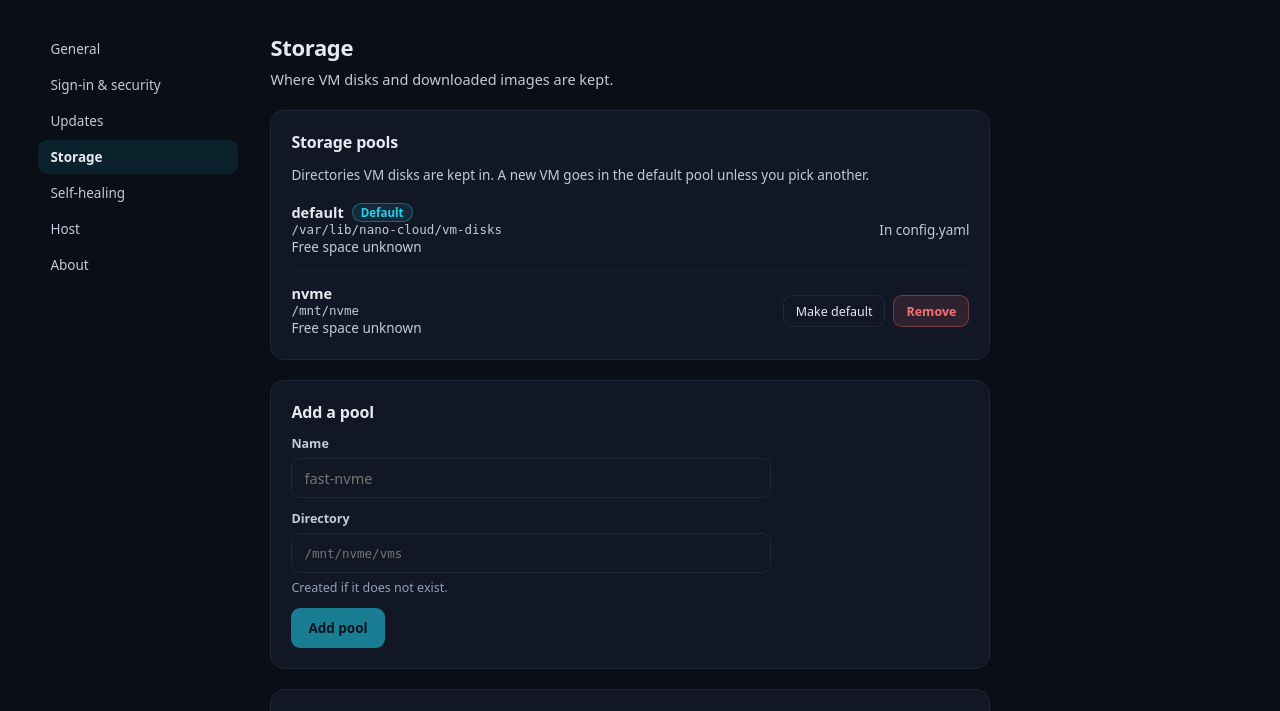
Test case: SettingsPage › adds a pool, shows a refusal verbatim, and removes only Settings-added pools
Expected: the text "/mnt/nvme" is shown, [291,303,359,318]
In the field labelled "Name": (531, 478) [291,458,771,498], type "srv"
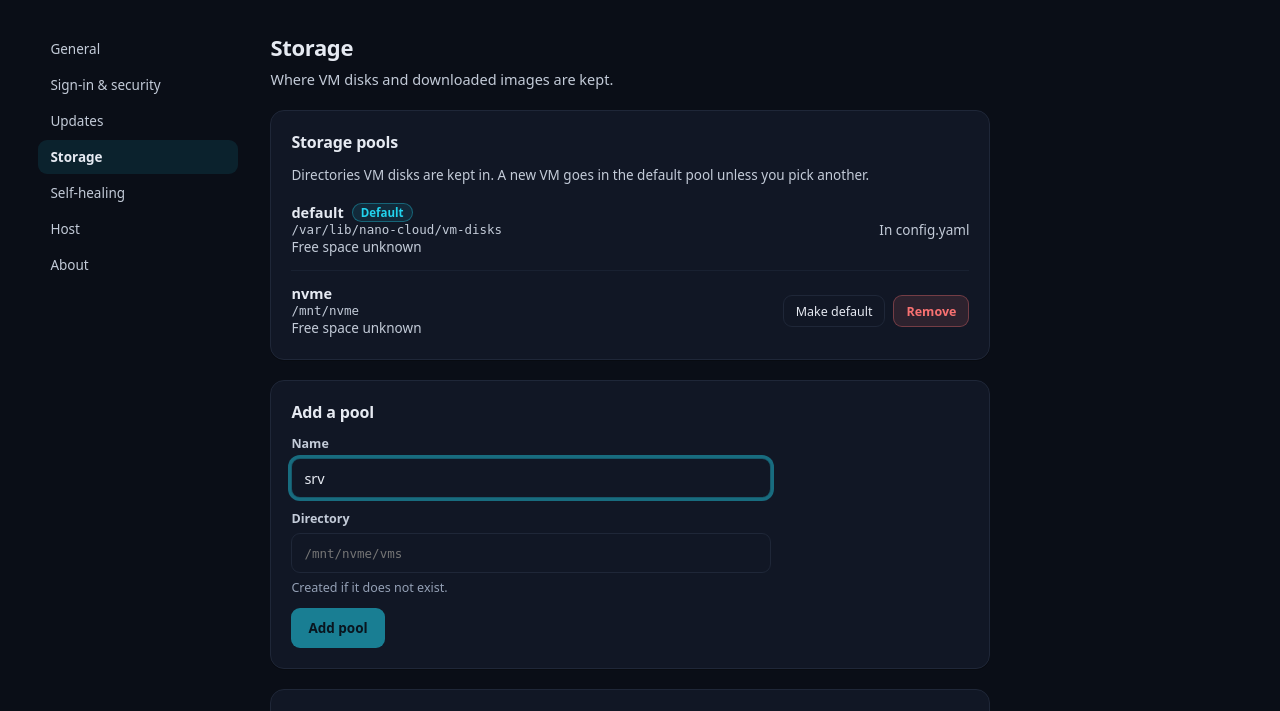
In the field labelled "Directory": (531, 553) [291,533,771,573], type "/srv/vms"
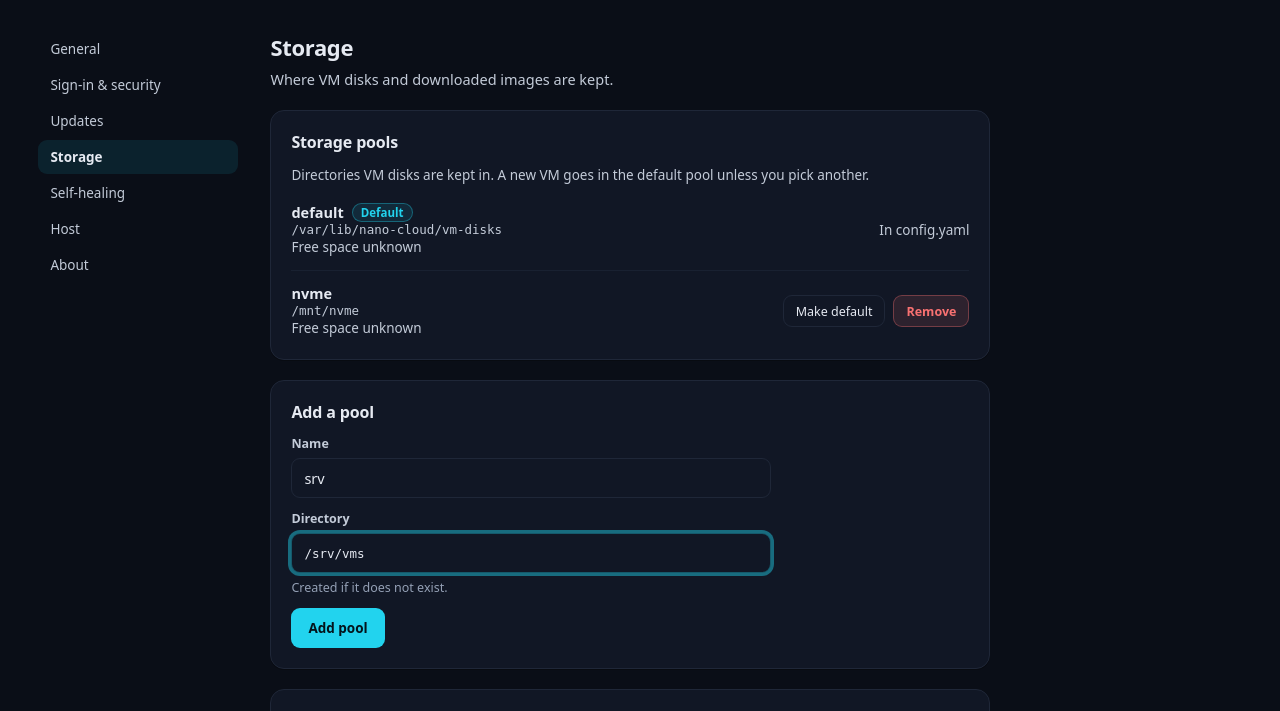
Click the button "Add pool": click(338, 628) [291,608,385,648]
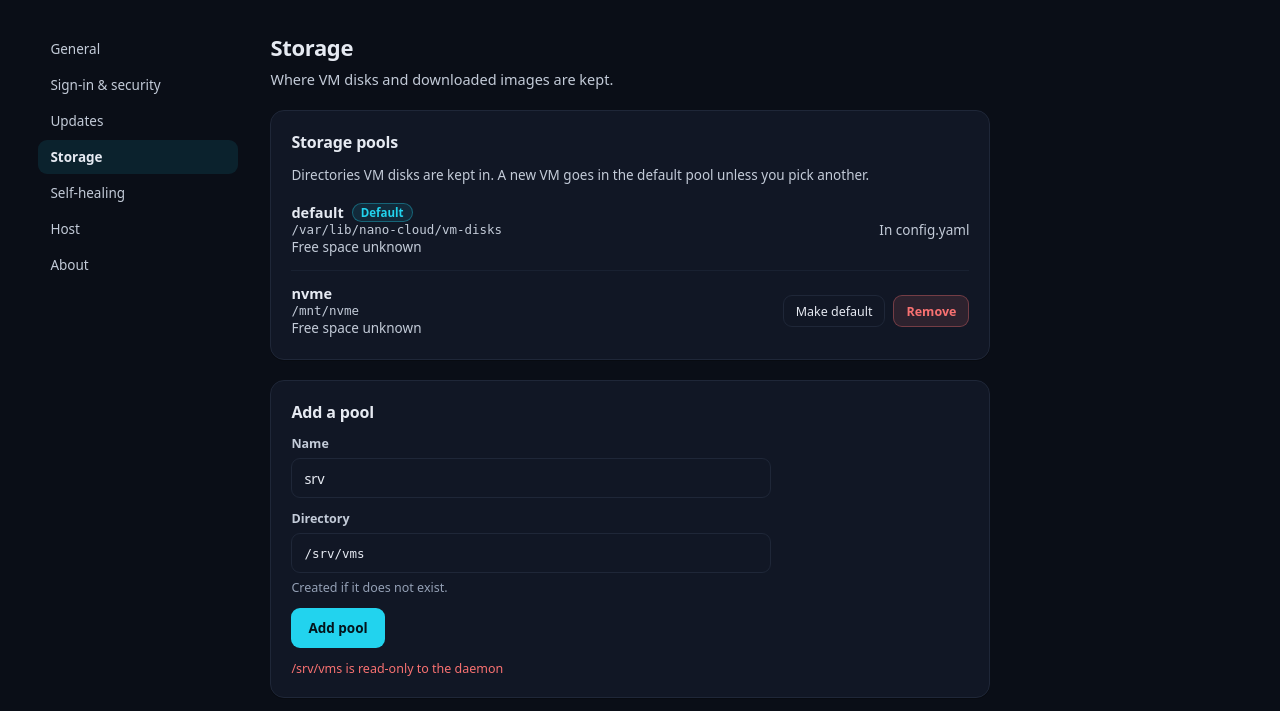
Expected: the message shows "read-only to the daemon", [291,660,503,677]
Click the button with aria-label "Remove nvme": click(931, 311) [894,295,969,327]
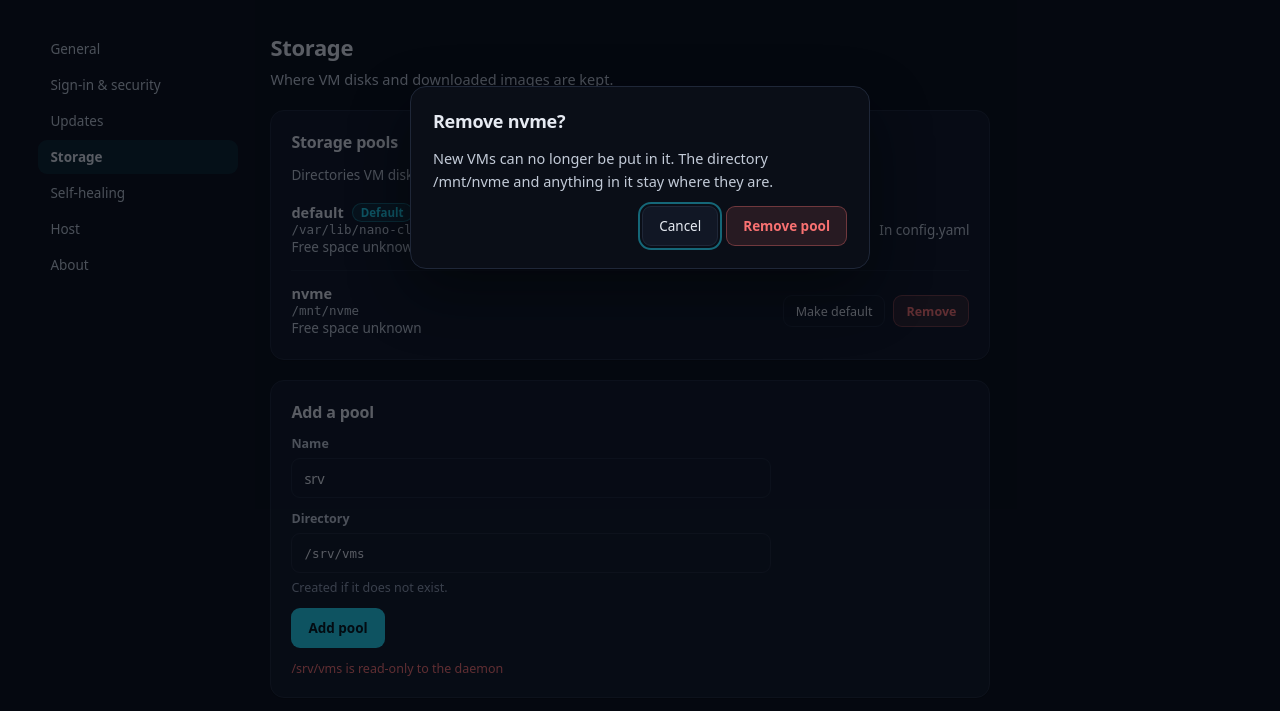
Click the button "Remove pool": click(787, 226) [726,206,847,246]
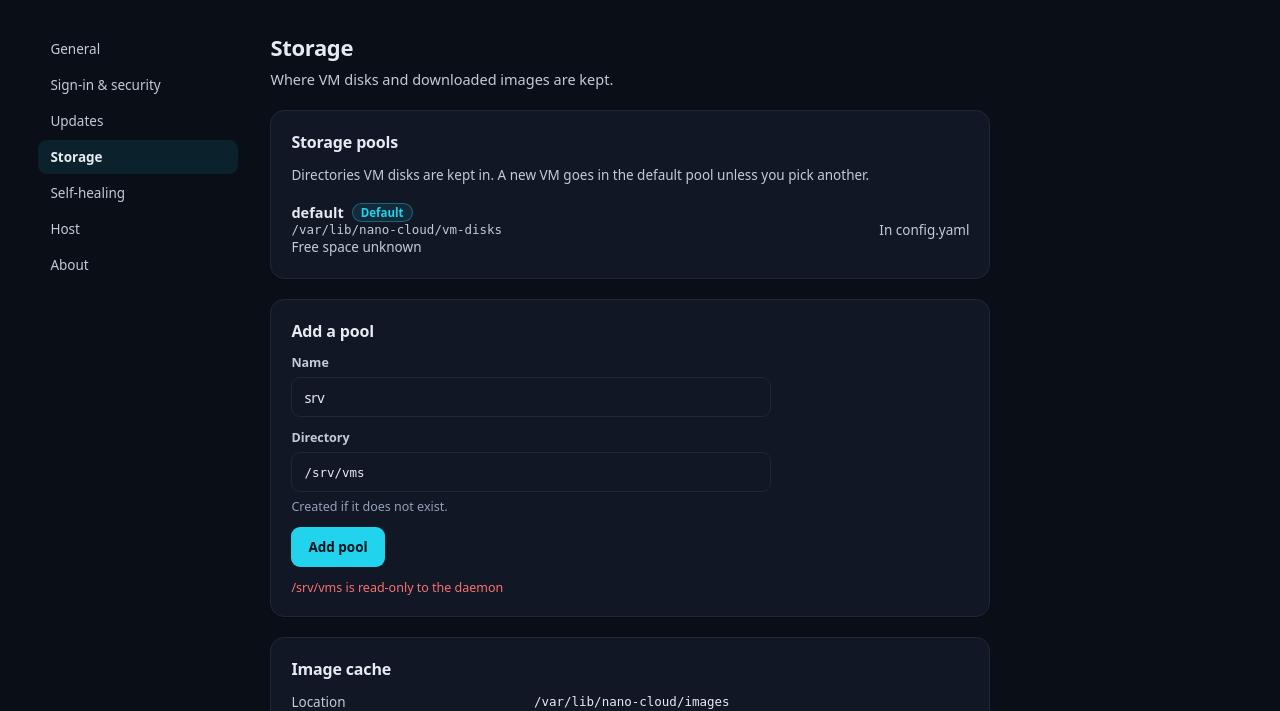
Expected: the text "/mnt/nvme" is gone
